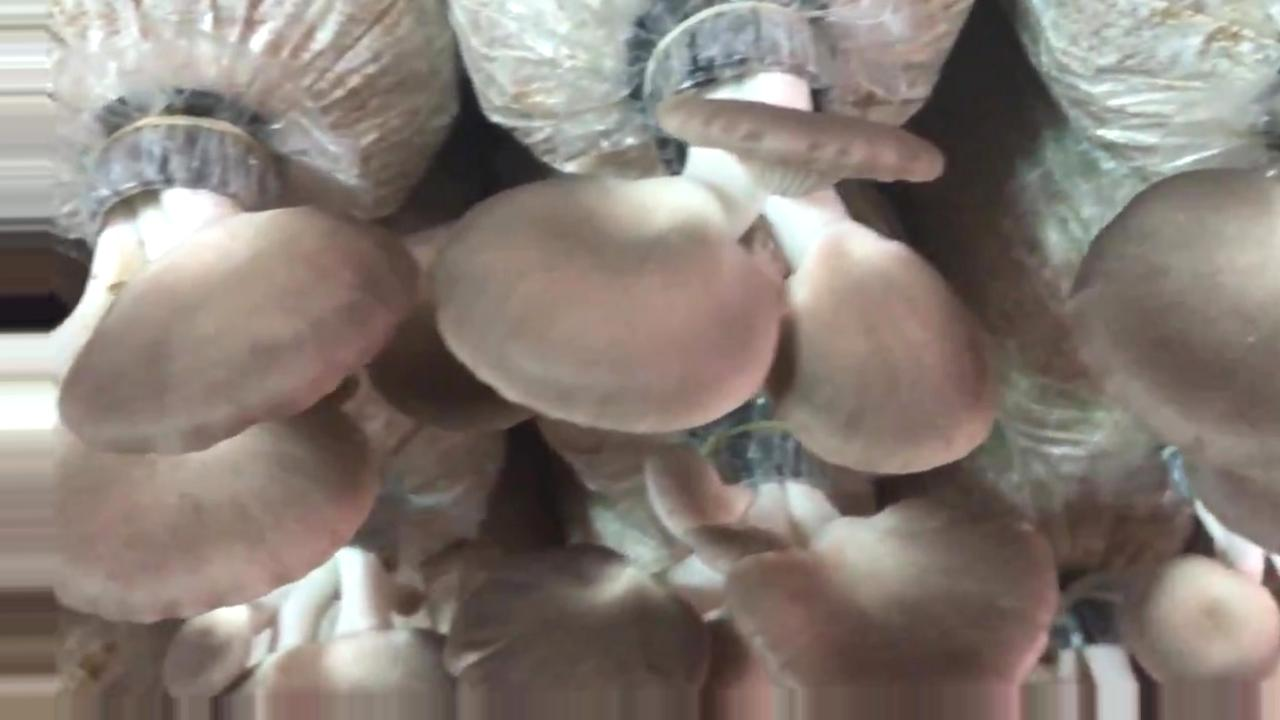nam: (439, 1, 998, 473), (1, 114, 418, 619), (454, 427, 1057, 720), (1077, 164, 1280, 546), (1118, 439, 1279, 720)
